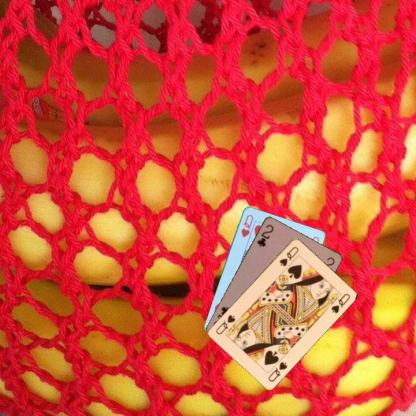2c: (254, 221, 275, 248)
Qh: (239, 212, 254, 239)
Qs: (265, 358, 289, 383), (277, 244, 300, 267)
